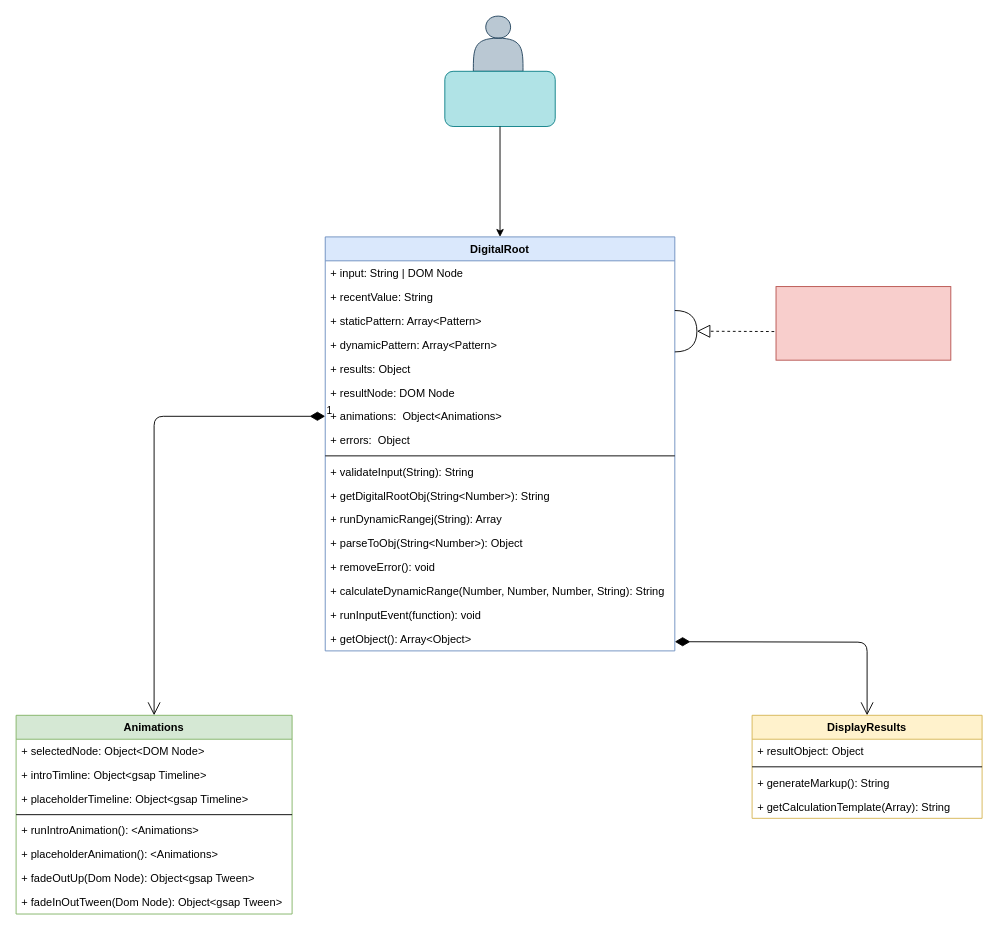
Some shapes in this 998 by 933 pixel diagram are drawn without their labels. Here are the shapes that lost their labels. From the top down, the centre of each, then its label:
point 499,98: User
point 863,323: <<Interface>> Pattern + regEx: RegExp + replace: String
